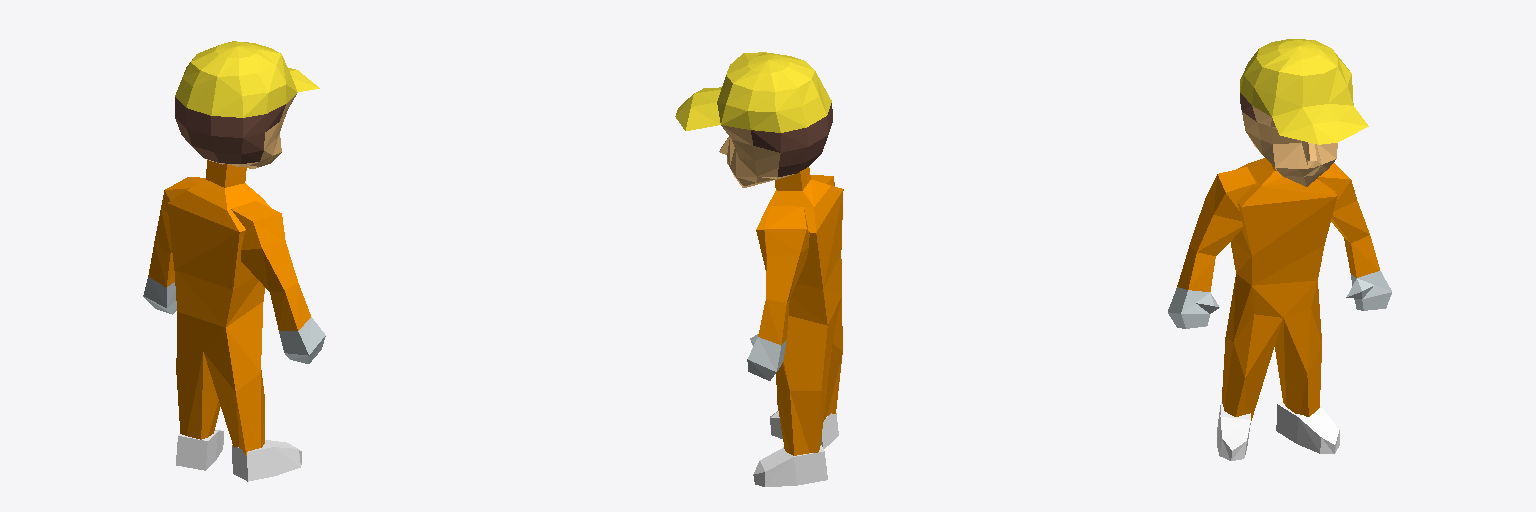
3 renders of one model, left to right at view 1: azimuth 30°, elevation 25°; view 2: azimuth 150°, elevation 25°; view 3: azimuth 270°, elevation 25°, orthographic.
Visible parts, largest first — view 1: group[number redacted], group[number redacted], group[number redacted], group[number redacted], group[number redacted], group[number redacted]; view 2: group[number redacted], group[number redacted], group[number redacted], group[number redacted], group[number redacted]; view 3: group[number redacted], group[number redacted], group[number redacted], group[number redacted], group[number redacted], group[number redacted].
Boxes of the visible parts, x1=… form: group[number redacted]: x1=167, y1=160, x2=271, y2=455; group[number redacted]: x1=175, y1=41, x2=319, y2=168; group[number redacted]: x1=231, y1=201, x2=325, y2=363; group[number redacted]: x1=143, y1=177, x2=205, y2=314; group[number redacted]: x1=232, y1=440, x2=301, y2=481; group[number redacted]: x1=176, y1=430, x2=223, y2=470; group[number redacted]: x1=756, y1=167, x2=843, y2=455; group[number redacted]: x1=675, y1=52, x2=832, y2=187; group[number redacted]: x1=747, y1=205, x2=809, y2=380; group[number redacted]: x1=753, y1=445, x2=827, y2=486; group[number redacted]: x1=770, y1=411, x2=838, y2=448; group[number redacted]: x1=1222, y1=158, x2=1337, y2=420; group[number redacted]: x1=1240, y1=39, x2=1368, y2=186; group[number redacted]: x1=1168, y1=167, x2=1255, y2=328; group[number redacted]: x1=1317, y1=163, x2=1391, y2=310; group[number redacted]: x1=1276, y1=402, x2=1339, y2=453; group[number redacted]: x1=1217, y1=402, x2=1250, y2=460.
Size of the model in its own units: 0.2561 by 0.7143 by 0.3555.